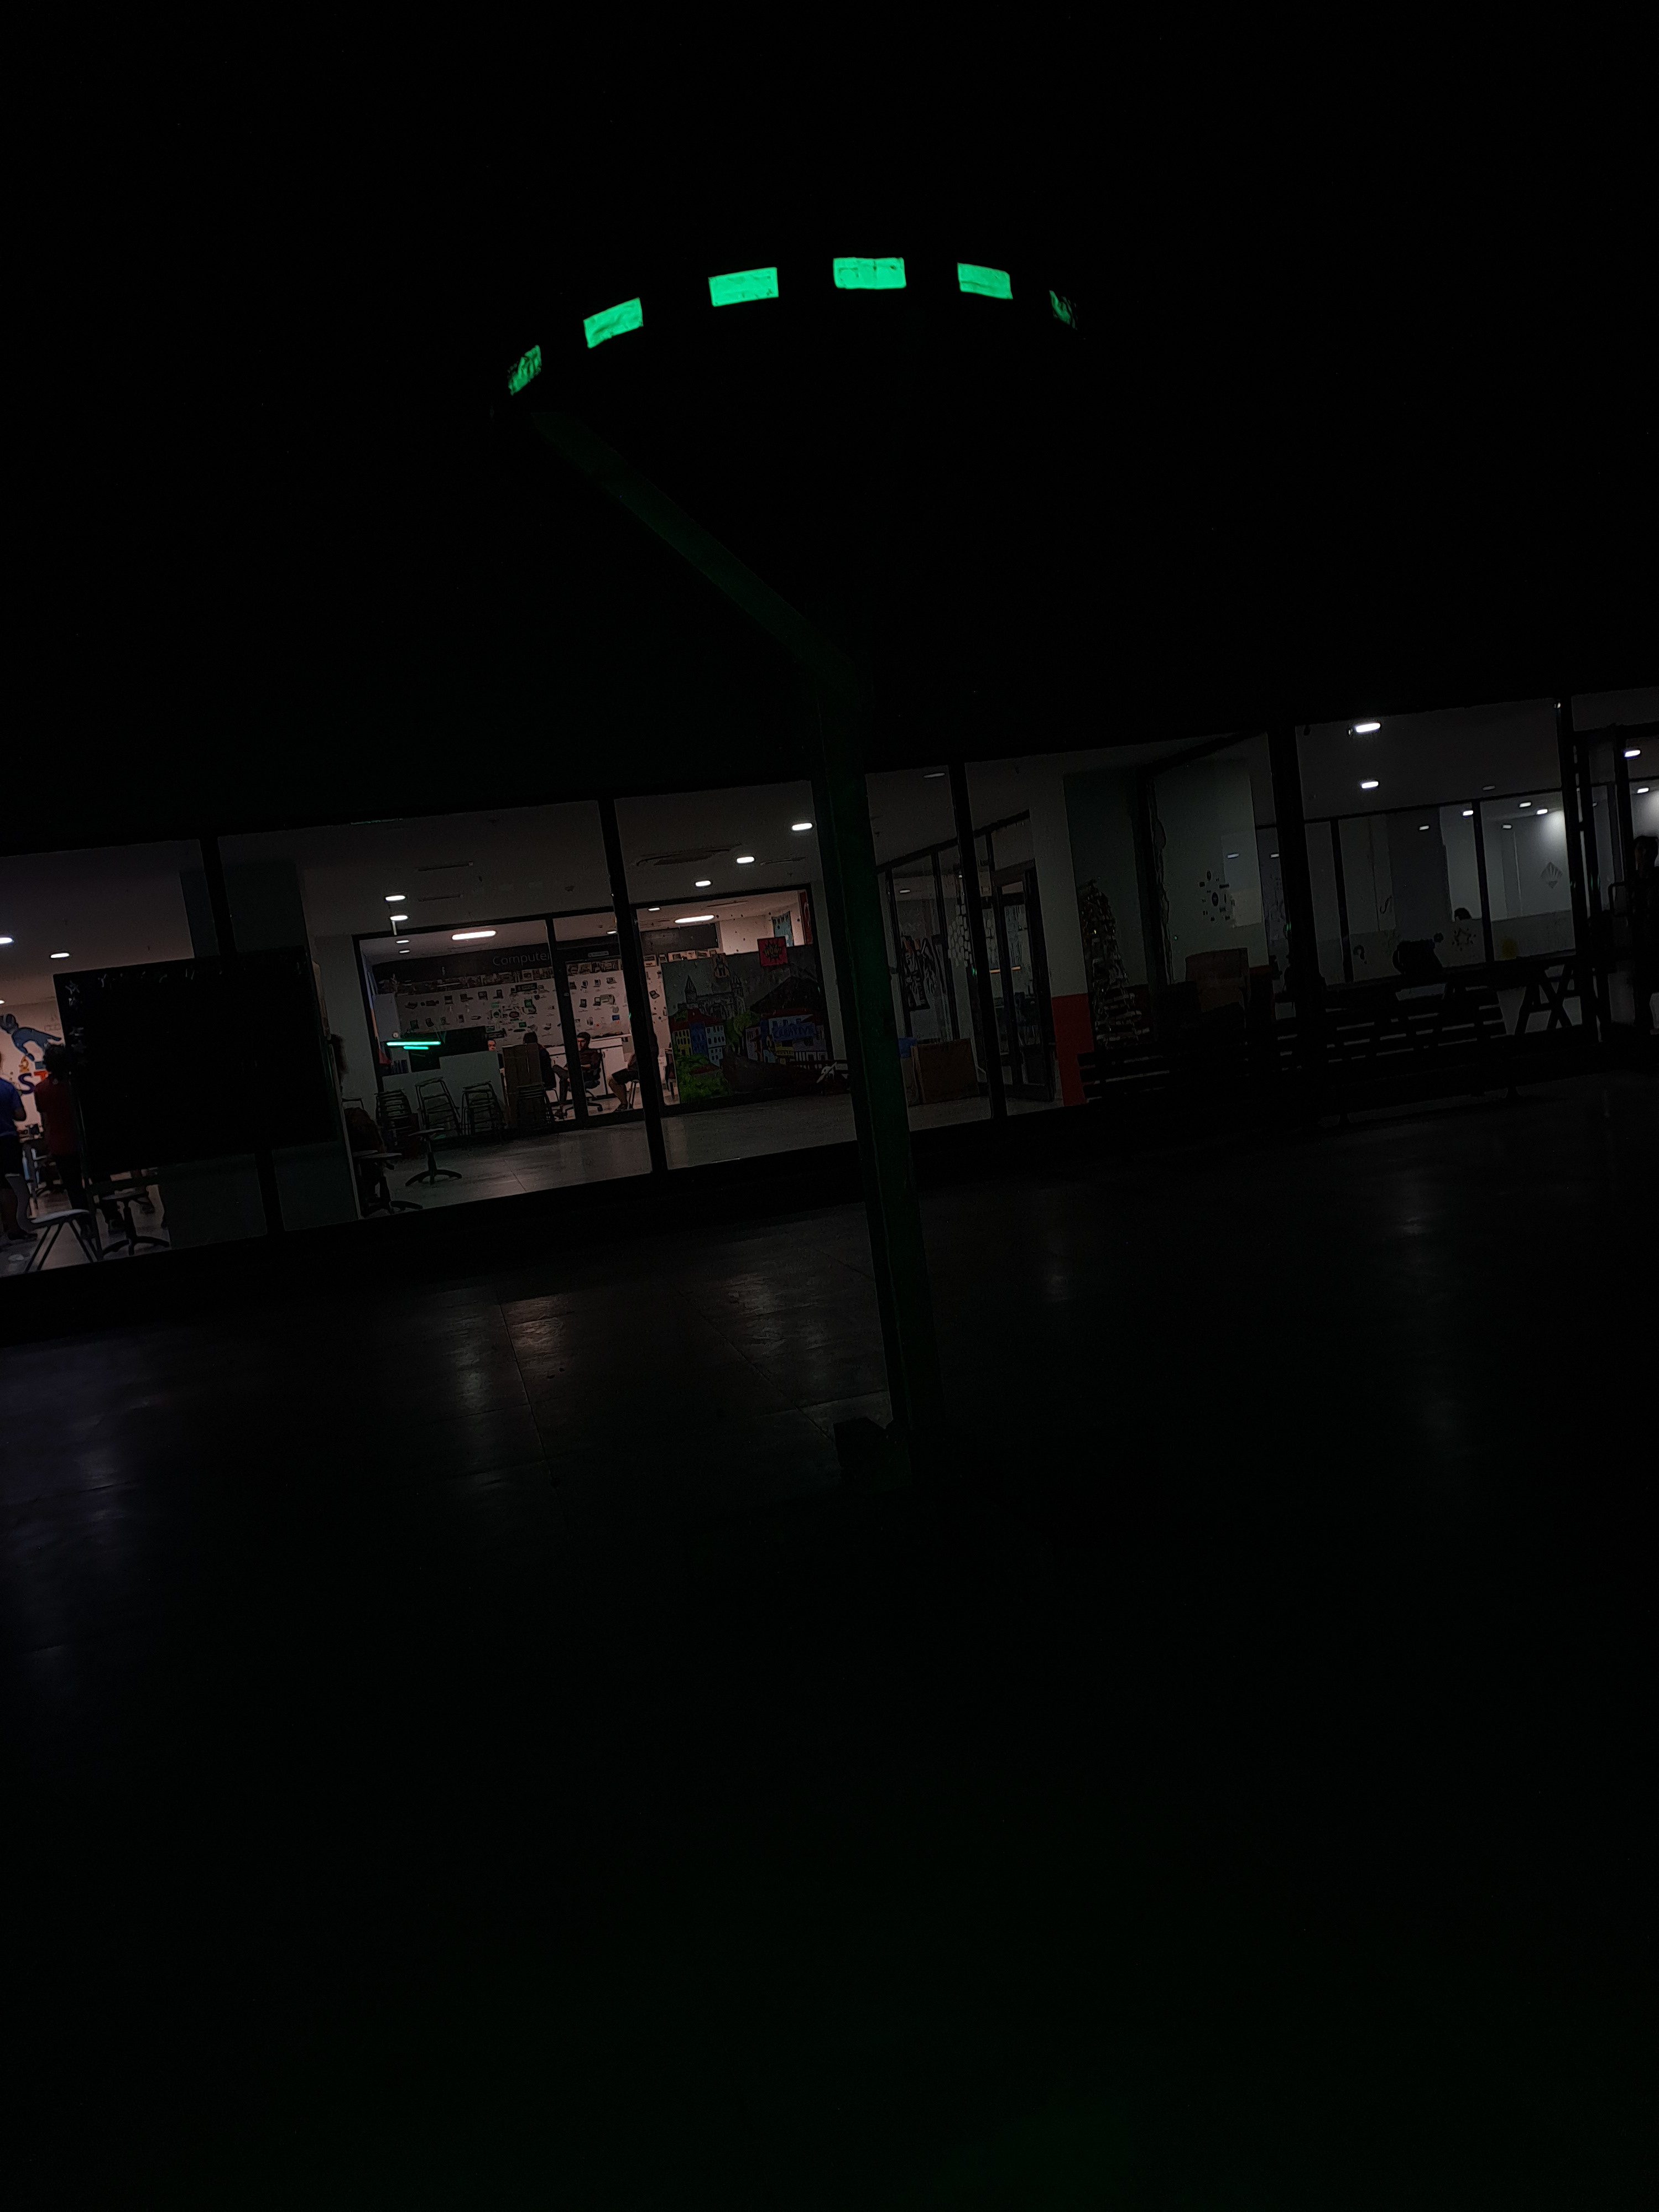hoop: (504, 251, 1082, 401)
